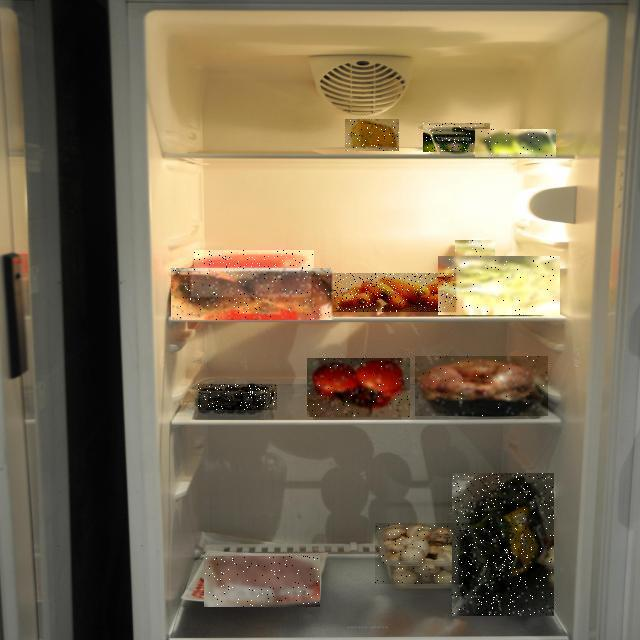Beans: (438, 256, 560, 315)
Blue Berries: (198, 384, 277, 410)
Butter: (194, 250, 314, 297)
Carrot: (335, 273, 456, 312)
Cheese: (423, 123, 490, 152), (345, 119, 399, 151)
Ham: (204, 556, 320, 607)
Heavy cream: (455, 240, 495, 286)
Lime: (475, 129, 556, 157)
Meat: (415, 356, 548, 416)
Mushroom: (375, 523, 472, 584)
Spinach: (452, 473, 554, 616)
Sweet potato: (172, 269, 336, 321)
Tomato Paste: (307, 358, 410, 417)
